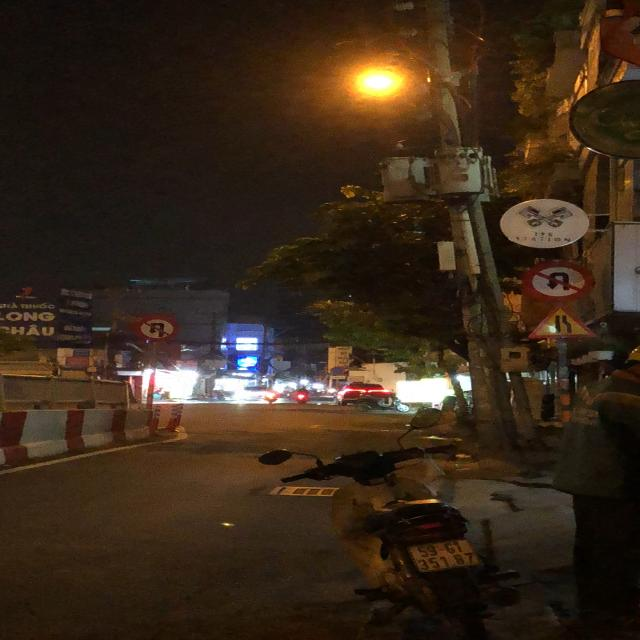Bien bao cam quay dau xe: (519, 259, 596, 302), (135, 314, 183, 342)
Bien bao duong bi thu hep: (519, 305, 601, 343)
